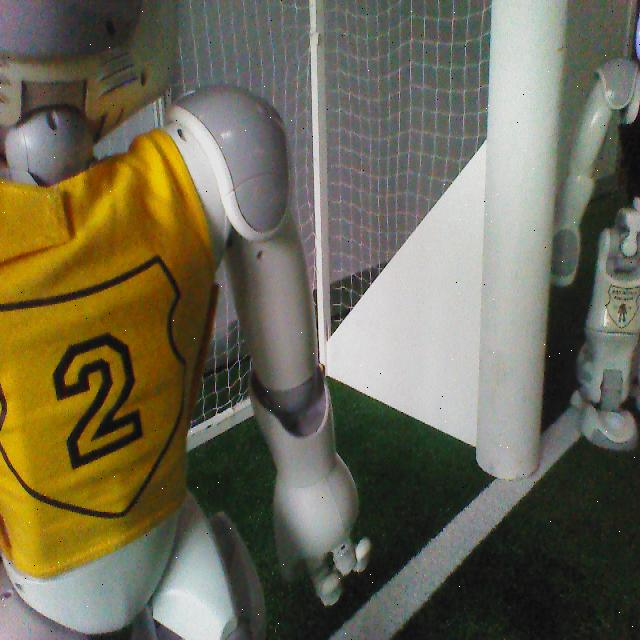goalpost: (474, 2, 570, 474)
